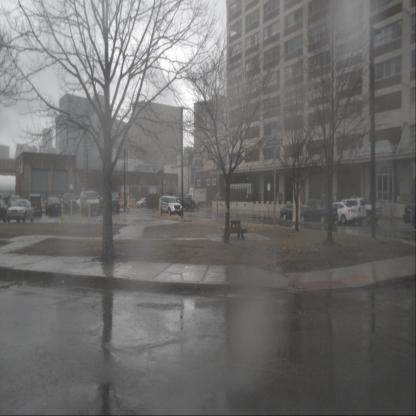barrier: (131, 202, 137, 207)
cone: (126, 198, 131, 209)
